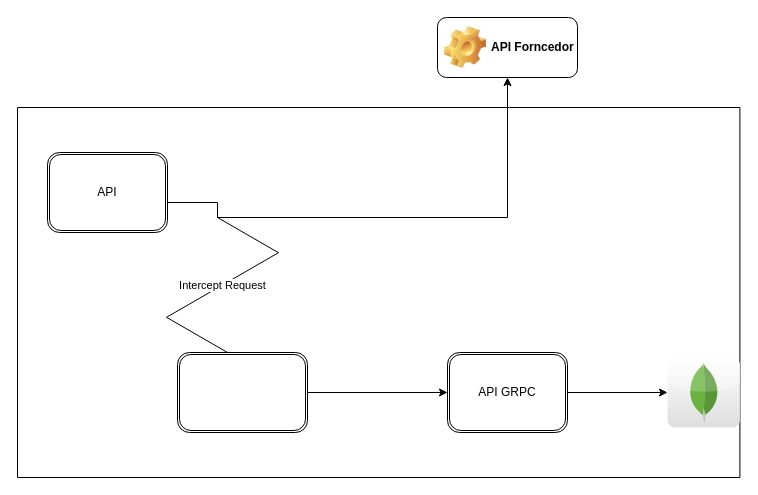
Some shapes in this 758 by 495 pixel diagram are drawn without their labels. The centre of each missing label's shape, as x and y in pixels:
"HTTPClient (Send)" goes at pixel 242 392.
"MONGODB" goes at pixel 703 392.
